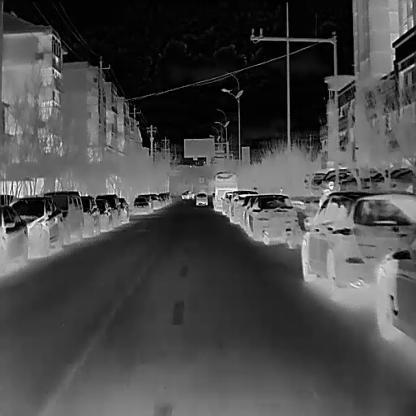car: (301, 189, 416, 290), (371, 242, 415, 342), (13, 195, 64, 257), (243, 194, 297, 245), (44, 189, 81, 244), (0, 205, 27, 275), (212, 170, 236, 212), (87, 194, 111, 233), (83, 194, 98, 245), (101, 191, 120, 228), (228, 195, 252, 224), (115, 196, 129, 223), (219, 188, 233, 215), (133, 194, 148, 214), (194, 191, 208, 206)
